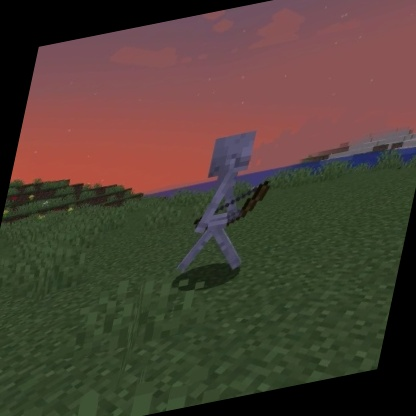skeleton: (169, 121, 287, 286)
